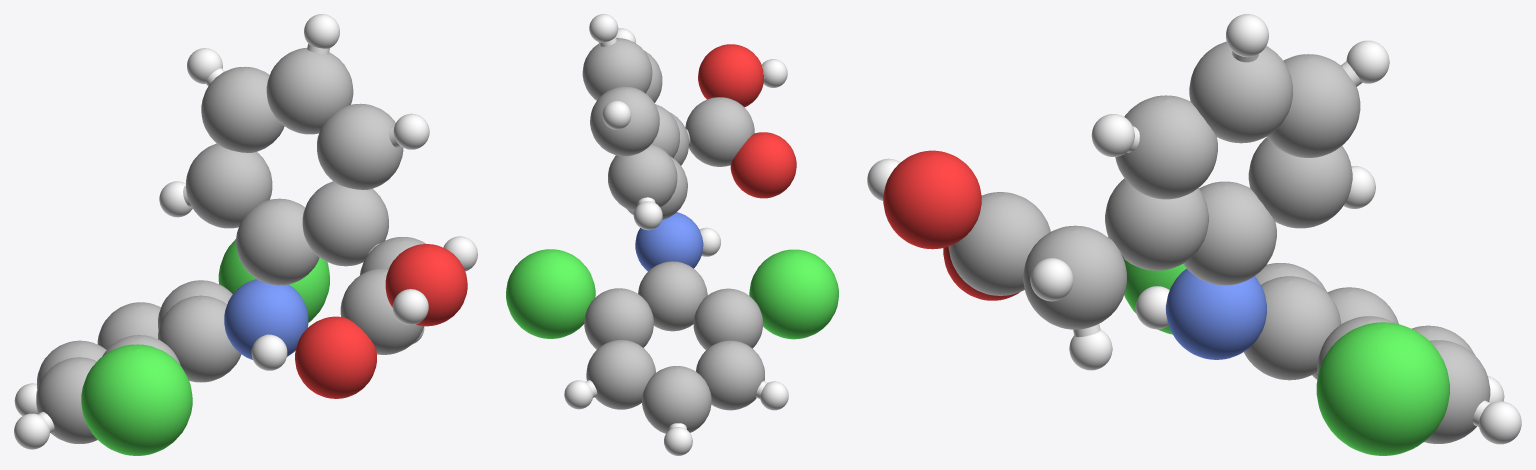
The model's file is diclofenaco.glb.
3 renders of one model, left to right at view 1: azimuth 30°, elevation 25°; view 2: azimuth 150°, elevation 25°; view 3: azimuth 270°, elevation 25°, orthographic. The views are drawn at different scales.
Visible parts, largest first — view 1: Chlorine_ball, Carbon_ball_10, Carbon_ball_4, Carbon_ball_2, Carbon_ball_6, Carbon_ball, Oxygen_ball, Carbon_ball_8, Carbon_ball_16, Nitrogen_ball, Oxygen_ball_2, Carbon_ball_14 (+16 smaller); view 2: Chlorine_ball_2, Chlorine_ball, Carbon_ball_18, Carbon_ball_26, Carbon_ball_14, Carbon_ball_24, Carbon_ball_16, Oxygen_ball, Carbon_ball_6, Carbon_ball_22, Carbon_ball_20, Carbon_ball_8 (+15 smaller); view 3: Chlorine_ball_2, Carbon_ball_2, Carbon_ball_10, Oxygen_ball_2, Carbon_ball_12, Nitrogen_ball, Carbon_ball_4, Carbon_ball_14, Carbon_ball_16, Carbon_ball_6, Carbon_ball_8, Carbon_ball (+16 smaller).
Part boxes in pixels (bbox=[...]): Chlorine_ball: bbox=[81, 344, 192, 455]; Carbon_ball_10: bbox=[317, 103, 403, 189]; Carbon_ball_4: bbox=[302, 181, 388, 266]; Carbon_ball_2: bbox=[266, 48, 353, 134]; Carbon_ball_6: bbox=[186, 143, 272, 228]; Carbon_ball: bbox=[236, 198, 319, 285]; Oxygen_ball: bbox=[295, 316, 376, 398]; Carbon_ball_8: bbox=[201, 66, 284, 152]; Carbon_ball_16: bbox=[158, 295, 241, 382]; Nitrogen_ball: bbox=[224, 279, 308, 359]; Oxygen_ball_2: bbox=[385, 244, 467, 326]; Carbon_ball_14: bbox=[340, 268, 424, 354]; Chlorine_ball_2: bbox=[506, 249, 595, 338]; Chlorine_ball: bbox=[749, 249, 838, 339]; Carbon_ball_18: bbox=[642, 366, 711, 433]; Carbon_ball_26: bbox=[586, 340, 655, 409]; Carbon_ball_14: bbox=[685, 97, 754, 166]; Carbon_ball_24: bbox=[696, 340, 764, 410]; Carbon_ball_16: bbox=[638, 261, 707, 331]; Oxygen_ball: bbox=[730, 132, 796, 198]; Carbon_ball_6: bbox=[608, 144, 677, 211]; Carbon_ball_22: bbox=[693, 288, 762, 349]; Carbon_ball_20: bbox=[584, 288, 653, 349]; Carbon_ball_8: bbox=[590, 86, 659, 156]; Chlorine_ball_2: bbox=[1316, 322, 1449, 455]; Carbon_ball_2: bbox=[1189, 41, 1292, 143]; Carbon_ball_10: bbox=[1115, 95, 1217, 199]; Oxygen_ball_2: bbox=[883, 150, 981, 249]; Carbon_ball_12: bbox=[1023, 225, 1126, 329]; Nitrogen_ball: bbox=[1166, 268, 1266, 359]; Carbon_ball_4: bbox=[1105, 178, 1208, 270]; Carbon_ball_14: bbox=[948, 192, 1050, 295]; Carbon_ball_16: bbox=[1243, 276, 1341, 380]; Carbon_ball_6: bbox=[1248, 137, 1352, 228]; Carbon_ball_8: bbox=[1266, 54, 1360, 157]; Carbon_ball: bbox=[1183, 181, 1276, 285].
Bounding box in the file's own units: 6.93 × 8.36 × 9.69.
